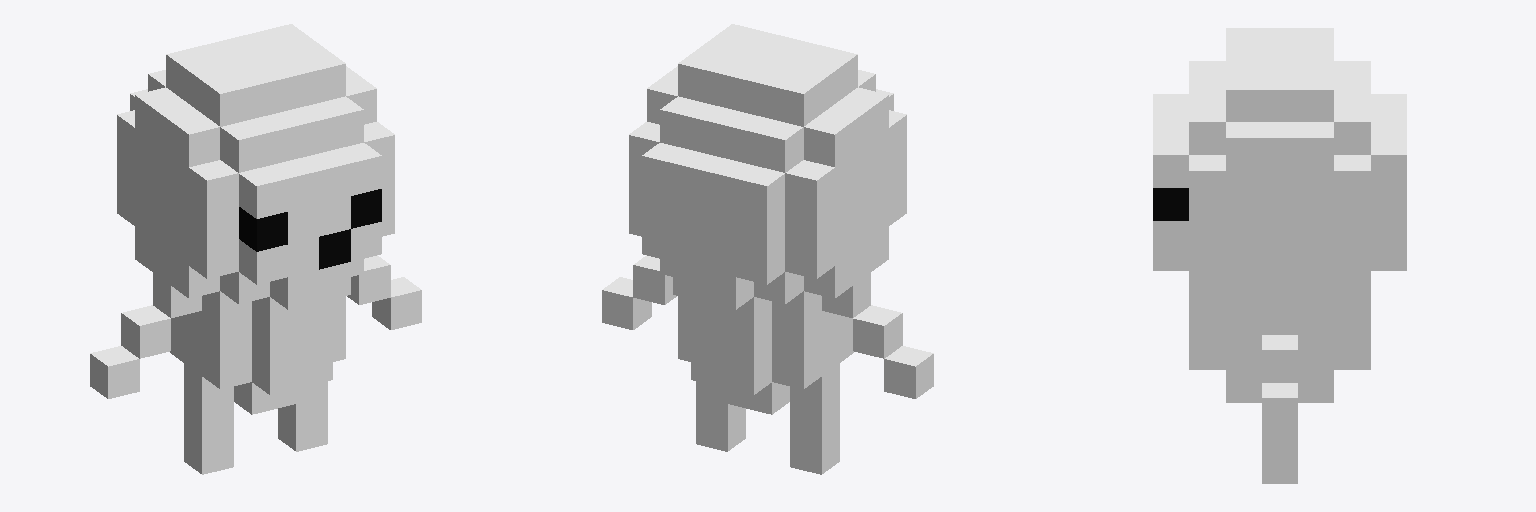
3 renders of one model, left to right at view 1: azimuth 30°, elevation 25°; view 2: azimuth 150°, elevation 25°; view 3: azimuth 270°, elevation 25°, orthographic.
Visible parts, largest first — view 1: object 1; view 2: object 1; view 3: object 1.
Part boxes in pixels (x1,y1,x2,y2): object 1: (90, 24, 421, 474); object 1: (602, 24, 933, 474); object 1: (1153, 28, 1406, 483).
Bounding box in the file's own units: 1 × 1.2 × 0.7.
1 materials, 1 textured.